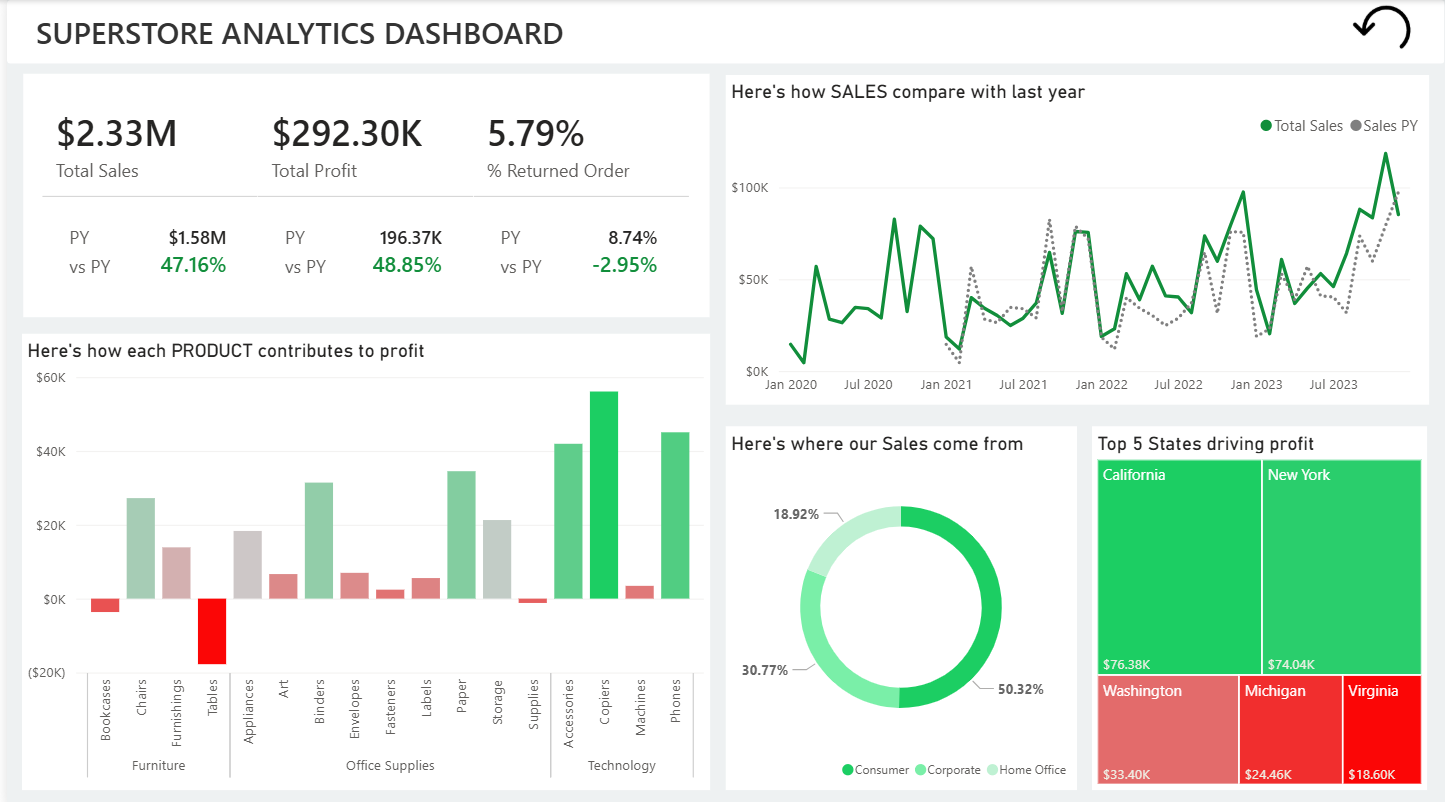

The dashboard page shown, as its layout file describes it:
{"tool":"powerbi","page":{"name":"Home","canvas":[1280,720],"ordinal":0},"visuals":[{"type":"cardVisual","fields":{"Data":["Key Measures.Total Sales","Key Measures.Total Profit","Key Measures.% Returned Order"]},"box":[14.3,65.7,611.4,217.1],"z":0},{"type":"shape","box":[0,0,1280,56.7],"z":1000},{"type":"image","title":"filter","box":[1196.2,0,55,46.7],"z":1000,"group":"g1"},{"type":"lineChart","title":"Here''s how SALES compare with last year","fields":{"Y":["Key Measures.Total Sales","Key Measures.Sales PY"],"Category":["Date Table.Start Of Month"]},"box":[640,66.2,626.2,293.8],"z":2000},{"type":"columnChart","title":"Here''s how each PRODUCT contributes to profit","fields":{"Category":["Orders.Category","Orders.Sub-Category"],"Y":["Key Measures.Total Profit"]},"box":[13.8,297.5,612.5,406.2],"z":3000},{"type":"treemap","title":"Top 5 States driving profit","fields":{"Group":["Orders.State/Province"],"Values":["Key Measures.Total Profit"]},"box":[966.2,380,298.8,323.8],"z":4000},{"type":"donutChart","title":"Here''s where our Sales come from","fields":{"Y":["Key Measures.Total Sales"],"Category":["Orders.Segment"]},"box":[640,380,312.5,323.8],"z":5000},{"type":"group","id":"g1","title":"slicer panel","box":[640,0,623.3,545],"z":7000}]}

Visuals, with their boxes in screenshot pixels (x1, y1, x2, y2), scaled from the page's 1280x720 canvas onto the 1445x802 screenshot:
cardVisual - Key Measures.Total Sales x Key Measures.Total Profit: bbox=[16, 73, 706, 315]
shape: bbox=[0, 0, 1444, 63]
"filter" image: bbox=[1350, 0, 1412, 52]
"Here''s how SALES compare with last year" lineChart: bbox=[722, 74, 1429, 401]
"Here''s how each PRODUCT contributes to profit" columnChart: bbox=[16, 331, 707, 784]
"Top 5 States driving profit" treemap: bbox=[1091, 423, 1428, 784]
"Here''s where our Sales come from" donutChart: bbox=[722, 423, 1075, 784]
"slicer panel" group: bbox=[722, 0, 1426, 607]
